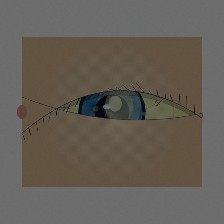corneal_ulcer: (90, 83, 148, 129)
